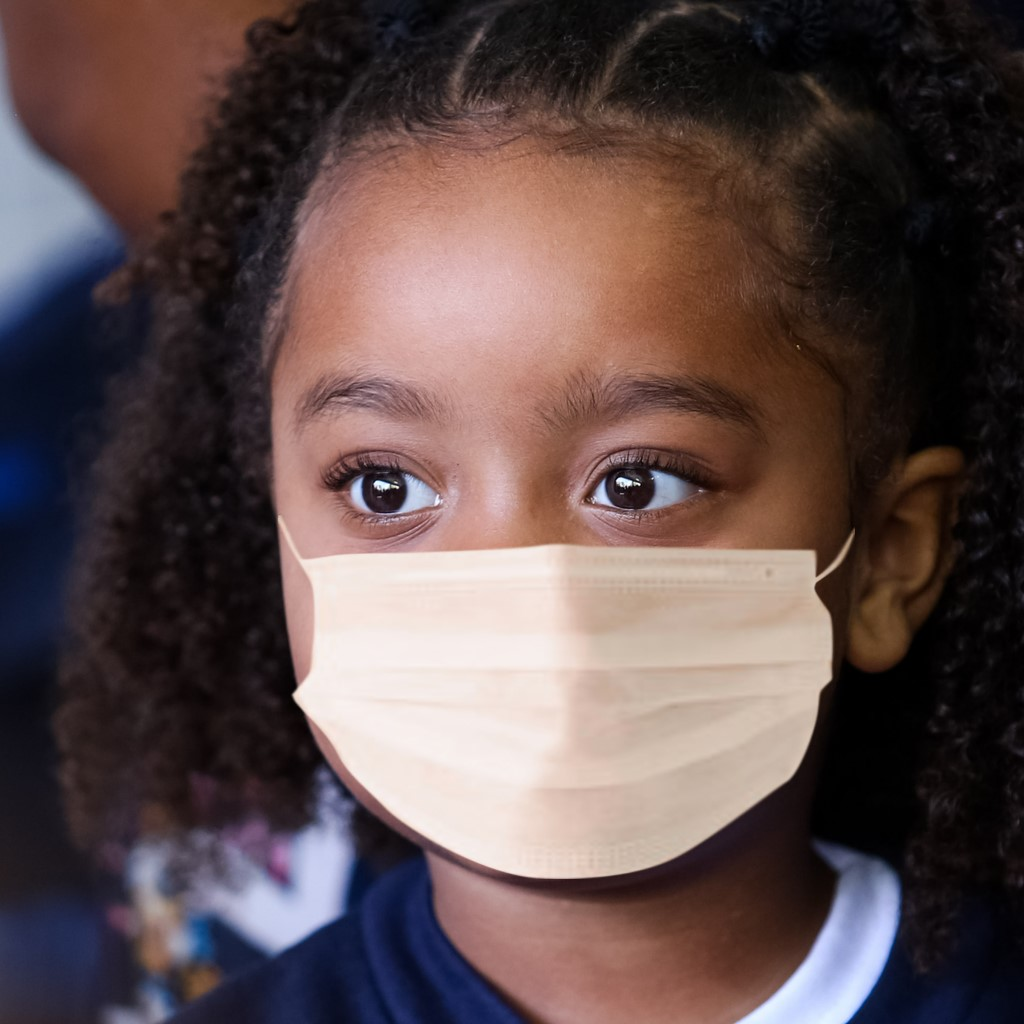con_mascara: (238, 100, 894, 872)
